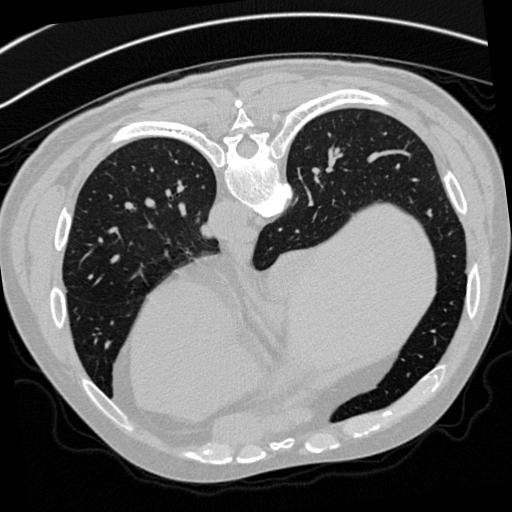nodule: (198, 223, 218, 243)
